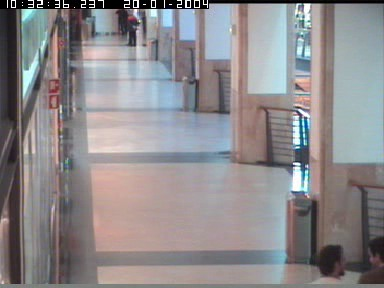person: (307, 244, 344, 284), (353, 236, 382, 284), (127, 12, 138, 47)
